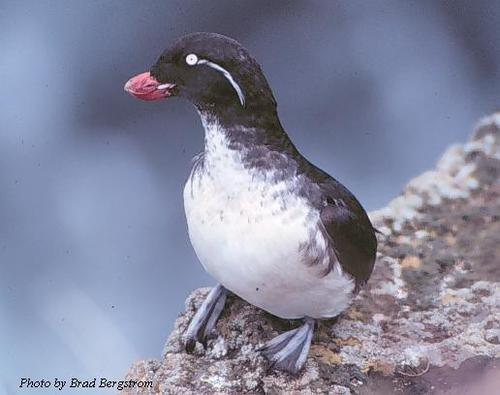007.Parakeet_Auklet: (123, 31, 381, 377)
